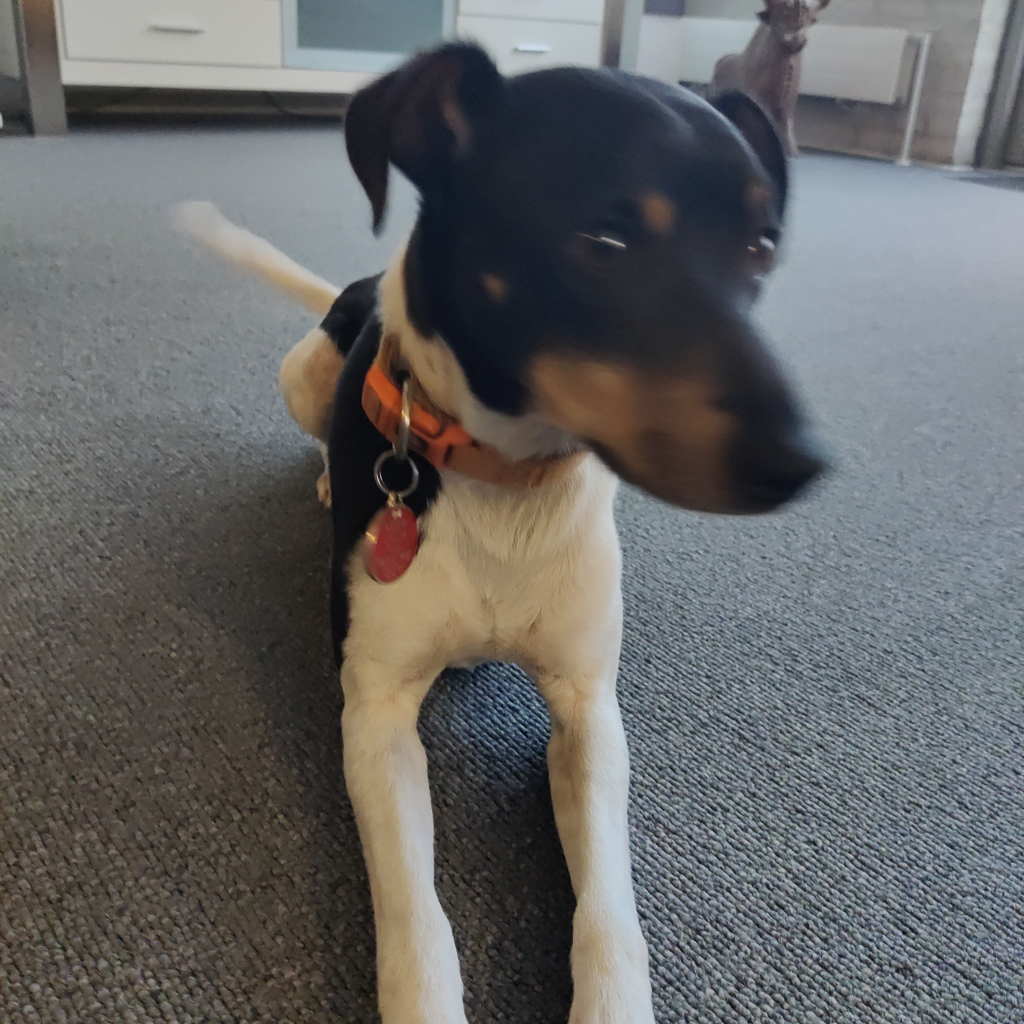Cattle: (698, 0, 847, 161)
Dog: (156, 28, 868, 1024)
